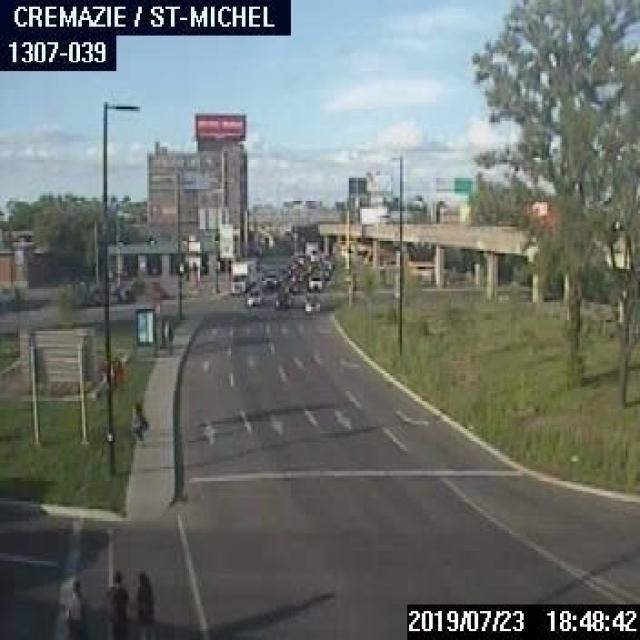pedestrian: (100, 569, 129, 638), (134, 569, 156, 638), (64, 576, 86, 638), (129, 400, 147, 444), (164, 318, 173, 352), (158, 316, 165, 346)
vehicle: (228, 253, 260, 290), (303, 291, 319, 313), (306, 273, 324, 291), (274, 290, 292, 308), (244, 288, 262, 305), (260, 268, 277, 286)
